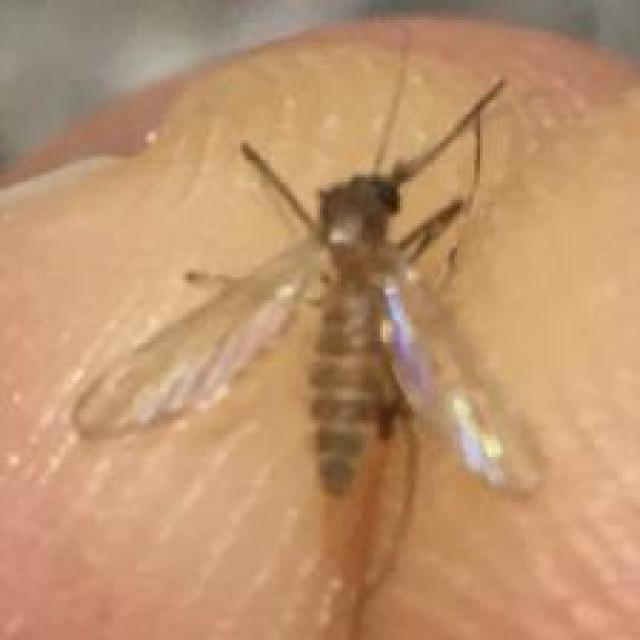Culex: (69, 21, 552, 638)
